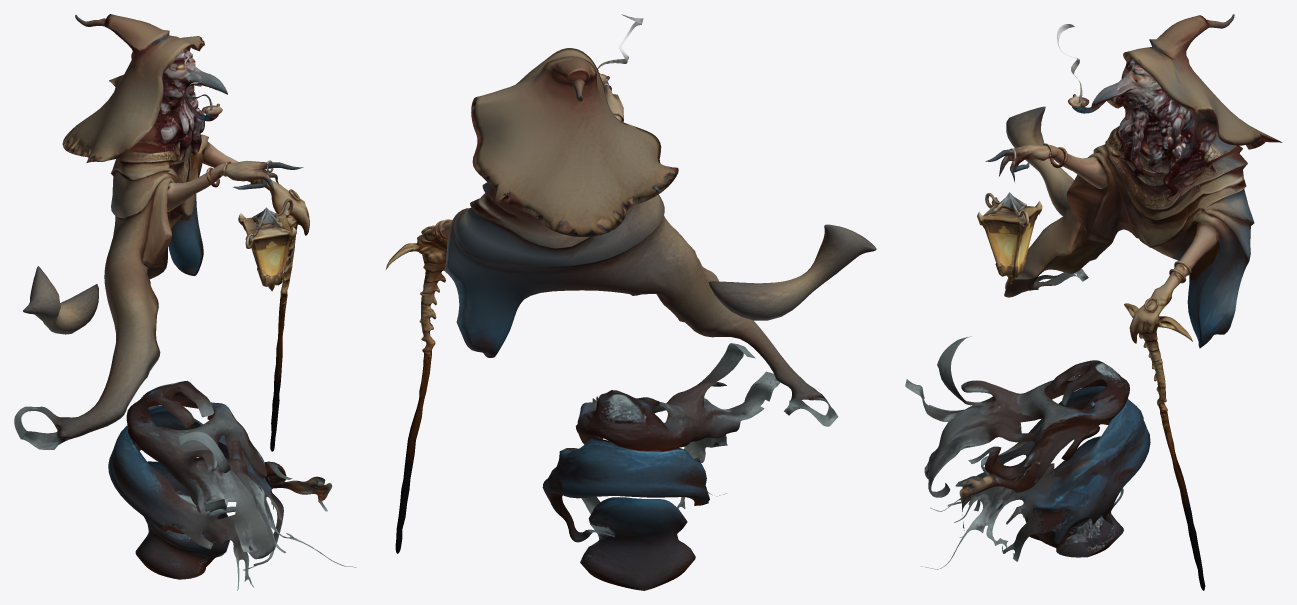
The model's file is hermit.glb.
3 views of the same model, side by side, from view 1: azimuth 30°, elevation 25°; view 2: azimuth 150°, elevation 25°; view 3: azimuth 270°, elevation 25° (orthographic). The views are drawn at different scales.
Parts seen in each view (by area): view 1: tripo_node_3e6e9a1c-122d-419e-b6cb-80849e9832ca; view 2: tripo_node_3e6e9a1c-122d-419e-b6cb-80849e9832ca; view 3: tripo_node_3e6e9a1c-122d-419e-b6cb-80849e9832ca.
Part boxes in pixels (x1=…): tripo_node_3e6e9a1c-122d-419e-b6cb-80849e9832ca: x1=14, y1=14, x2=356, y2=590; tripo_node_3e6e9a1c-122d-419e-b6cb-80849e9832ca: x1=385, y1=14, x2=876, y2=590; tripo_node_3e6e9a1c-122d-419e-b6cb-80849e9832ca: x1=905, y1=14, x2=1282, y2=590.
Size of the model in its own units: 0.749 by 0.9995 by 0.6629.
Materials: 1 (1 with a texture image).
